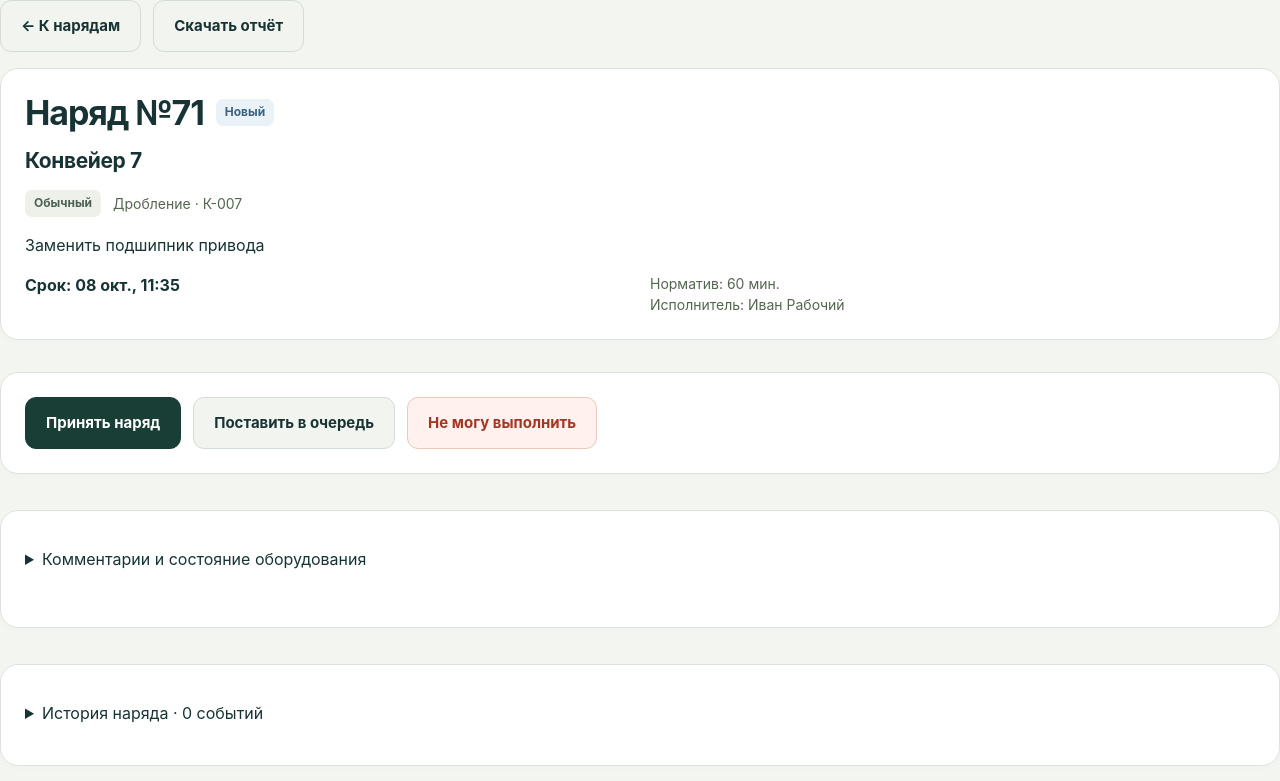
Test: OrderDetail: сбой, конфликт и черновик › повторяет неподтверждённое действие с теми же operation_id и expected_version (status 0)
Expected: the heading "Наряд №71" is shown, 25,93 -> 204,132
Click the button "Принять наряд".
click(103, 423)  # box 25,397 -> 181,449
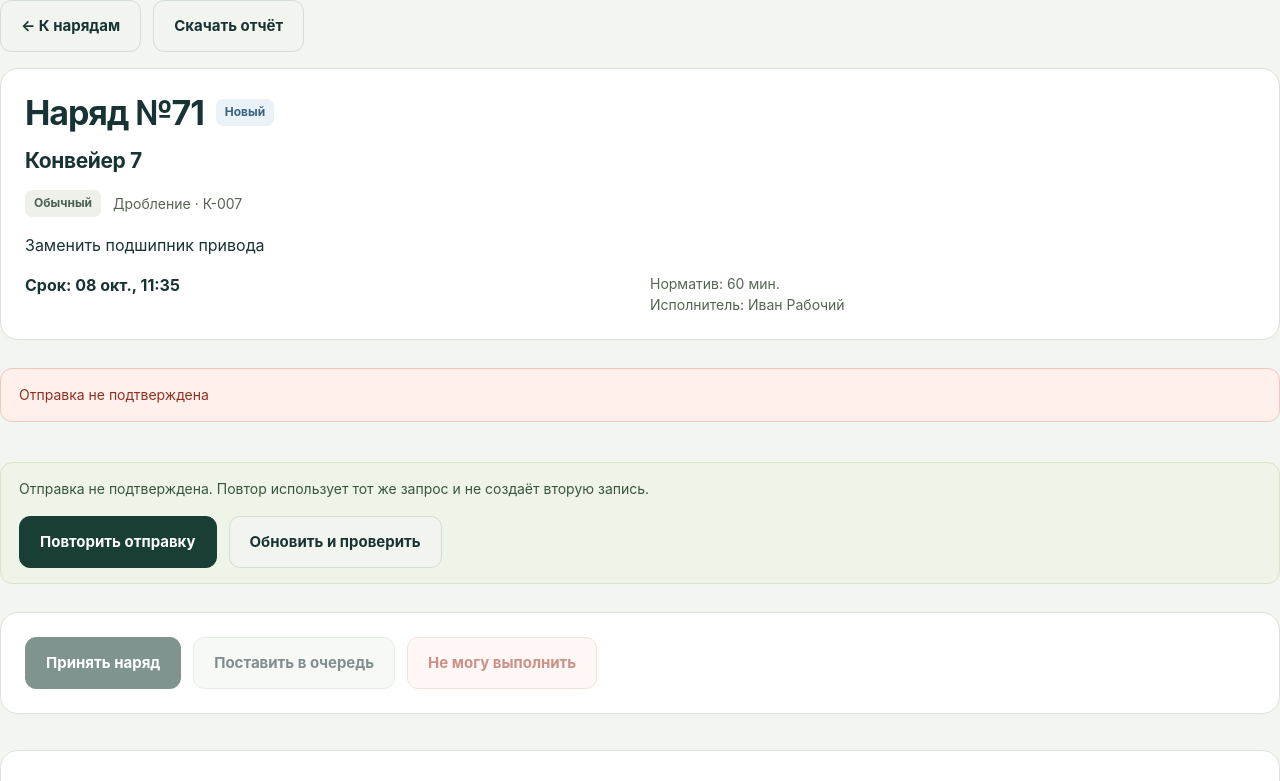
Expected: the button "Повторить отправку" is shown, 19,516 -> 216,568
Click the button "Обновить и проверить".
click(335, 542)  # box 228,516 -> 442,568
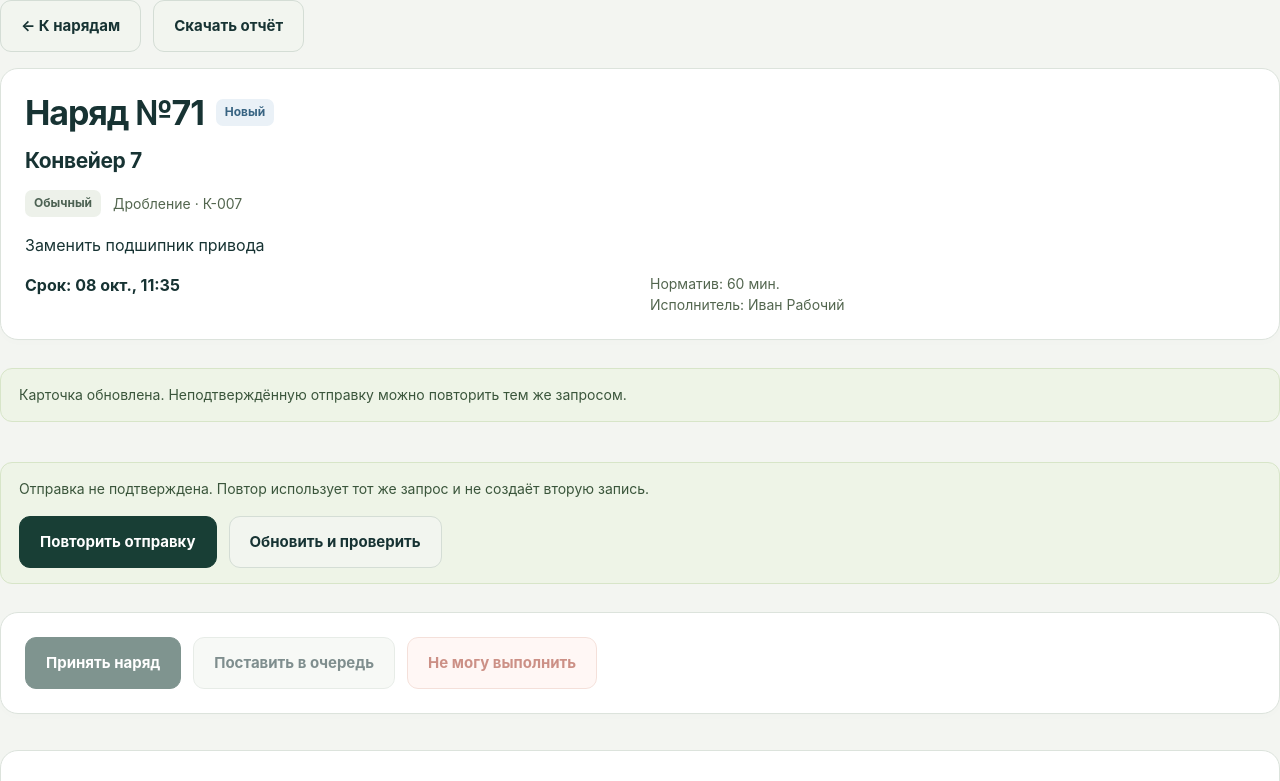
Expected: the button "Повторить отправку" is shown
Expected: the text "Карточка обновлена. Неподтверждённую отправку можно повторить тем же запросом." is shown, 0,368 -> 1279,422
Click the button "Повторить отправку".
click(118, 542)  # box 19,516 -> 216,568
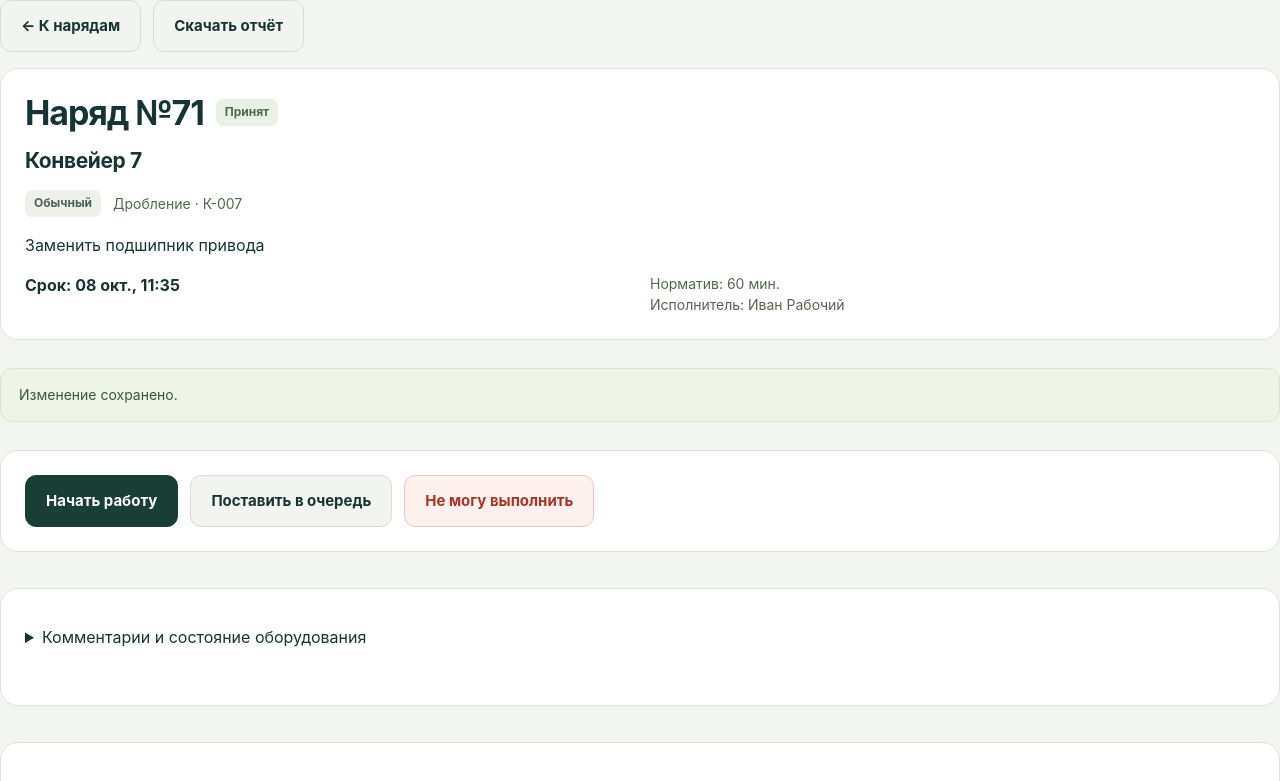
Expected: the button "Начать работу" is shown, 25,475 -> 178,527
